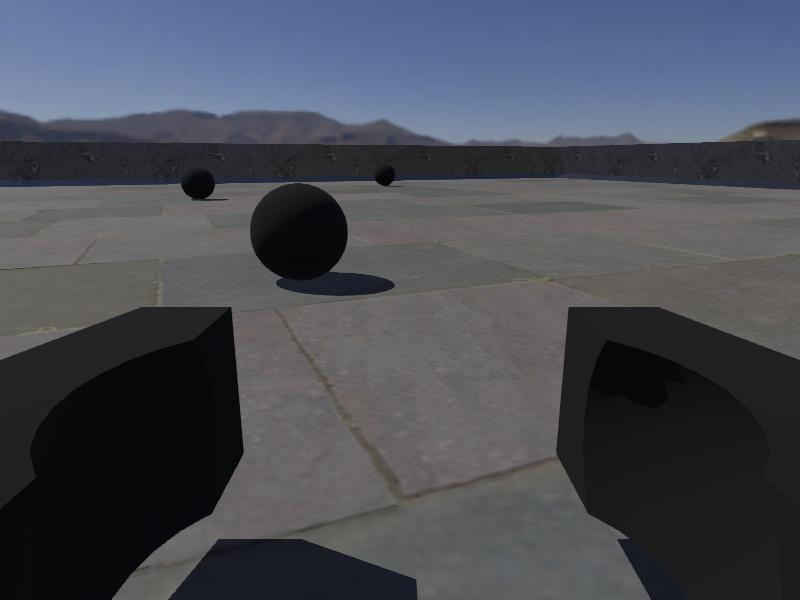black ball: (250, 182, 349, 284), (179, 165, 216, 200), (372, 162, 397, 188)
